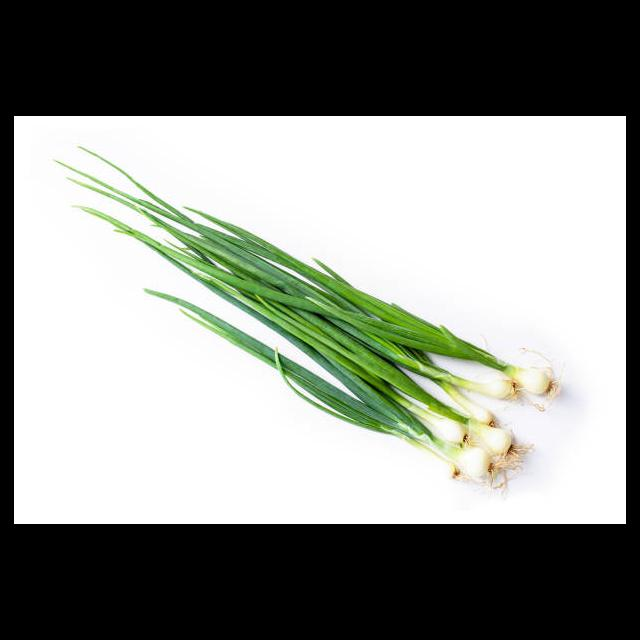green_onion: (50, 132, 559, 492)
